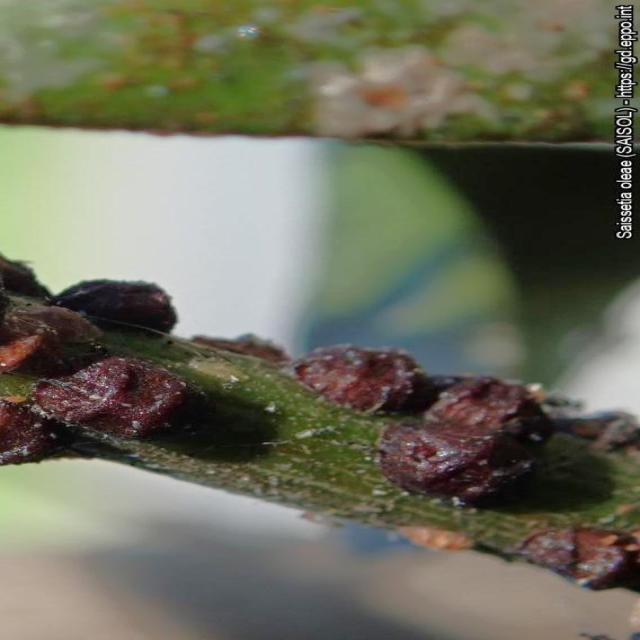BlackScale: (295, 348, 551, 504), (0, 357, 202, 468), (0, 292, 105, 375), (517, 527, 639, 590), (54, 280, 177, 334)
